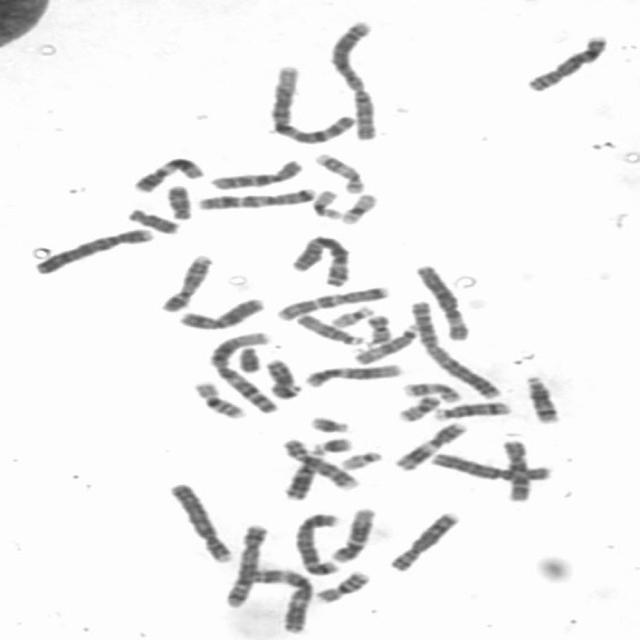A1: (270, 62, 358, 148), (208, 332, 281, 415)
A2: (408, 300, 502, 400), (326, 18, 383, 141)
A3: (242, 569, 316, 635), (292, 235, 350, 290)
B4: (35, 228, 154, 277), (168, 482, 234, 565)
B5: (223, 522, 270, 611), (293, 512, 343, 577)
C10: (209, 159, 304, 191), (499, 439, 533, 504)
C11: (393, 422, 470, 474), (132, 156, 208, 194)
C12: (328, 506, 378, 564), (303, 364, 403, 390)
C6: (410, 262, 473, 342), (428, 454, 552, 482)
C7: (276, 287, 392, 321), (195, 188, 315, 211)
C8: (522, 34, 608, 95), (386, 511, 462, 573)
C9: (280, 438, 361, 492), (158, 254, 216, 314)
D13: (283, 444, 326, 502), (264, 357, 304, 401)
D14: (520, 373, 562, 424), (432, 401, 515, 423)
D15: (351, 326, 419, 367), (294, 312, 366, 347)
E16: (190, 382, 246, 419), (315, 569, 370, 604)
E17: (312, 153, 365, 194), (403, 381, 464, 403)
E18: (126, 208, 182, 237), (162, 184, 194, 221)
F19: (338, 192, 378, 225), (310, 189, 345, 221)
F20: (397, 395, 441, 423), (366, 314, 394, 346)
G21: (304, 416, 355, 436), (311, 436, 354, 458)
G22: (329, 304, 376, 330), (340, 450, 384, 470)
X: (178, 297, 266, 331)
Y: (238, 347, 264, 373)
